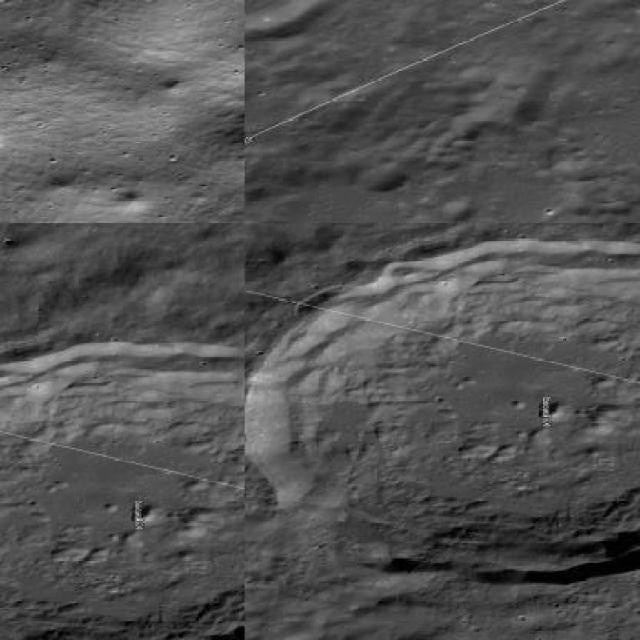crater: (246, 236, 640, 584), (1, 338, 244, 638)
